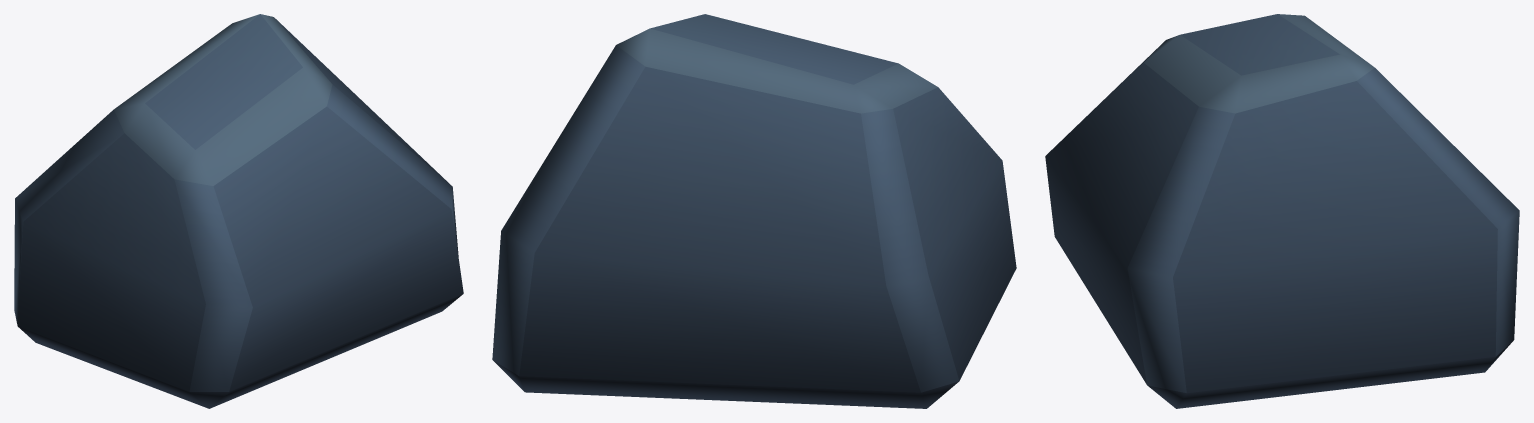
Rendered from rock_022.fbx.
3 views of the same model, side by side, from view 1: azimuth 30°, elevation 25°; view 2: azimuth 150°, elevation 25°; view 3: azimuth 270°, elevation 25° (orthographic). The views are drawn at different scales.
Visible parts, largest first — view 1: rock_022; view 2: rock_022; view 3: rock_022.
Boxes of the visible parts, x1,y1,x2,y2 form: rock_022: (14,14,463,408); rock_022: (492,14,1016,408); rock_022: (1045,14,1519,408).
Size of the model in its own units: 114 by 76.78 by 111.
1 material, 1 textured.
